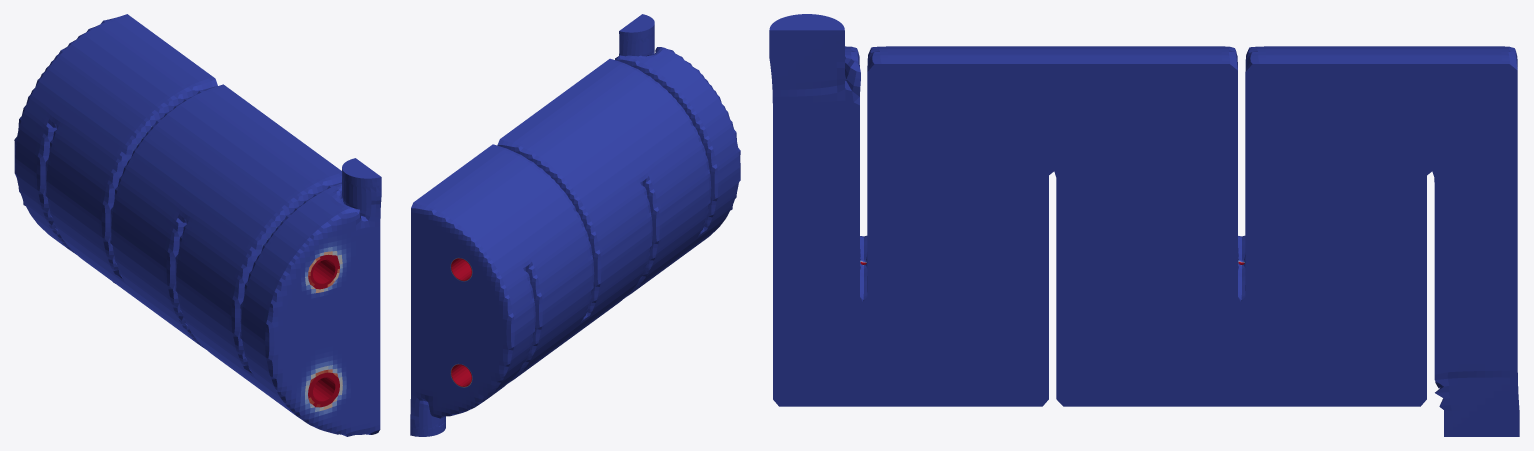
File: Shape_IndexedFaceSetreference_velocity.py_timestep2_time20.0_.fbx
3 views of the same model, side by side, from view 1: azimuth 30°, elevation 25°; view 2: azimuth 150°, elevation 25°; view 3: azimuth 270°, elevation 25° (orthographic). The views are drawn at different scales.
Visible parts, largest first — view 1: Shape_IndexedFaceSet; view 2: Shape_IndexedFaceSet; view 3: Shape_IndexedFaceSet.
Boxes of the visible parts, box(x1,y1,x2,y2) form: Shape_IndexedFaceSet: box(14, 14, 381, 436); Shape_IndexedFaceSet: box(410, 14, 740, 436); Shape_IndexedFaceSet: box(769, 14, 1519, 436).
Bounding box in the file's own units: 25.37 × 59.33 × 99.2.
